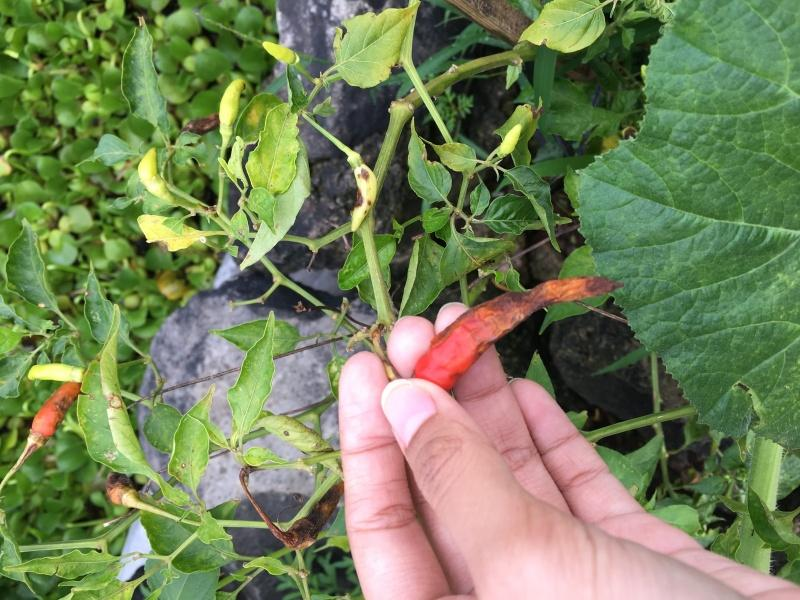antraknosa: (406, 277, 629, 391), (278, 478, 345, 550), (32, 379, 80, 439), (105, 469, 136, 507)
cabai_normal: (348, 164, 376, 232), (219, 79, 245, 120), (137, 147, 159, 185), (263, 41, 294, 63)
